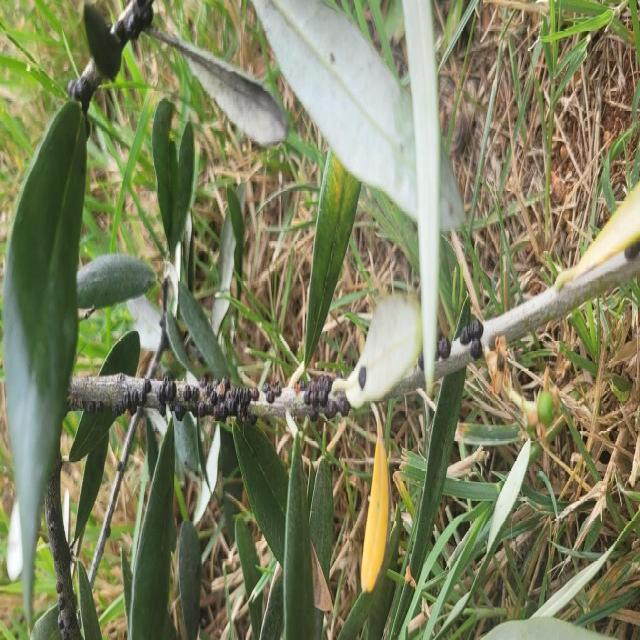Black Scale: (156, 377, 260, 423), (298, 373, 350, 419), (111, 0, 153, 48), (110, 378, 152, 419), (459, 319, 484, 359), (56, 578, 70, 639), (262, 381, 282, 404), (358, 366, 366, 391)
